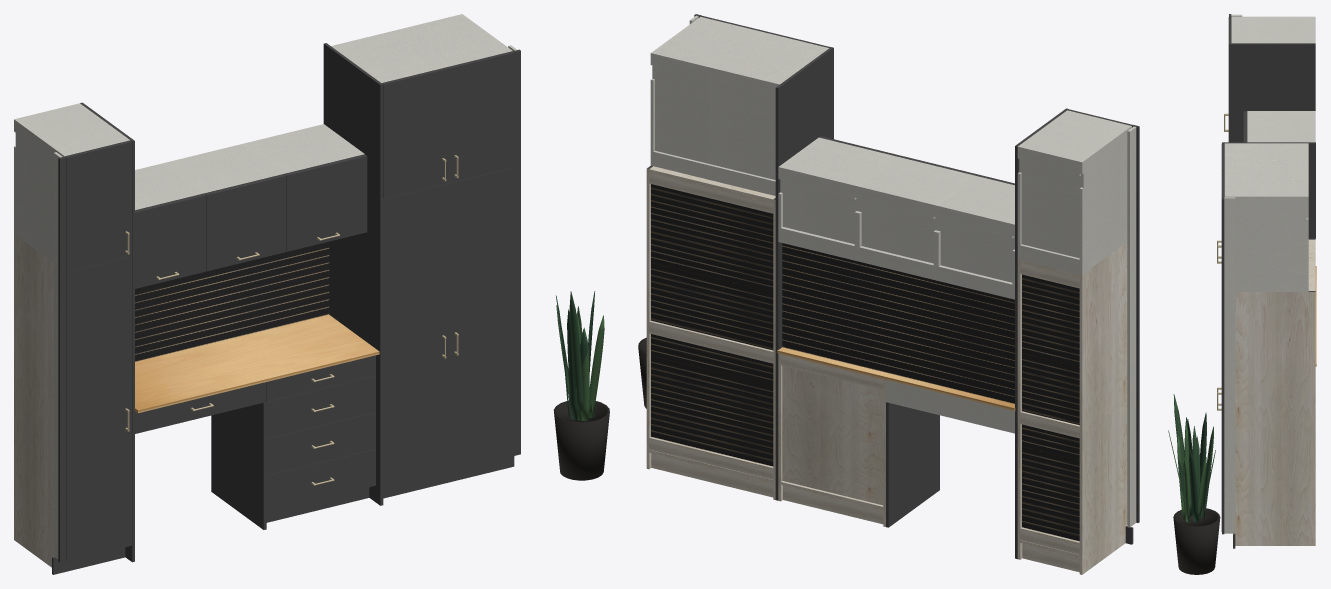
File: garage-cabinet.glb
The picture shows the model from 3 angles, left to right: view 1: azimuth 30°, elevation 25°; view 2: azimuth 150°, elevation 25°; view 3: azimuth 270°, elevation 25°; orthographic projection. The views are drawn at different scales.
Visible parts, largest first — view 1: garage-cabinet.001, mv_garage-cabinet_004, mv_garage-cabinet_005, mv_garage-cabinet_003, mv_garage-cabinet_001, mv_garage-cabinet_000, mv_garage-cabinet_002, mv_garage-cabinet_006, mv_garage-cabinet_007, mv_garage-cabinet_008, mv_garage-cabinet_010, mv_garage-cabinet_011 (+3 smaller); view 2: garage-cabinet.001; view 3: garage-cabinet.001, mv_garage-cabinet_003, mv_garage-cabinet_000.
Part boxes in pixels (<box>): garage-cabinet.001: <box>14,14,609,574</box>; mv_garage-cabinet_004: <box>383,183,448,488</box>; mv_garage-cabinet_005: <box>66,256,131,561</box>; mv_garage-cabinet_003: <box>449,167,514,472</box>; mv_garage-cabinet_001: <box>382,67,448,198</box>; mv_garage-cabinet_000: <box>447,51,514,182</box>; mv_garage-cabinet_002: <box>65,141,131,272</box>; mv_garage-cabinet_006: <box>285,154,367,251</box>; mv_garage-cabinet_007: <box>205,174,286,271</box>; mv_garage-cabinet_008: <box>135,194,206,288</box>; mv_garage-cabinet_010: <box>266,412,375,475</box>; mv_garage-cabinet_011: <box>266,375,375,438</box>; garage-cabinet.001: <box>638,14,1139,574</box>; garage-cabinet.001: <box>1168,14,1316,574</box>; mv_garage-cabinet_003: <box>1217,292,1221,531</box>; mv_garage-cabinet_000: <box>1217,170,1224,291</box>.
Bounding box in the file's own units: 3.66 × 2.79 × 1.08.
Materials: 13 (8 with a texture image).
